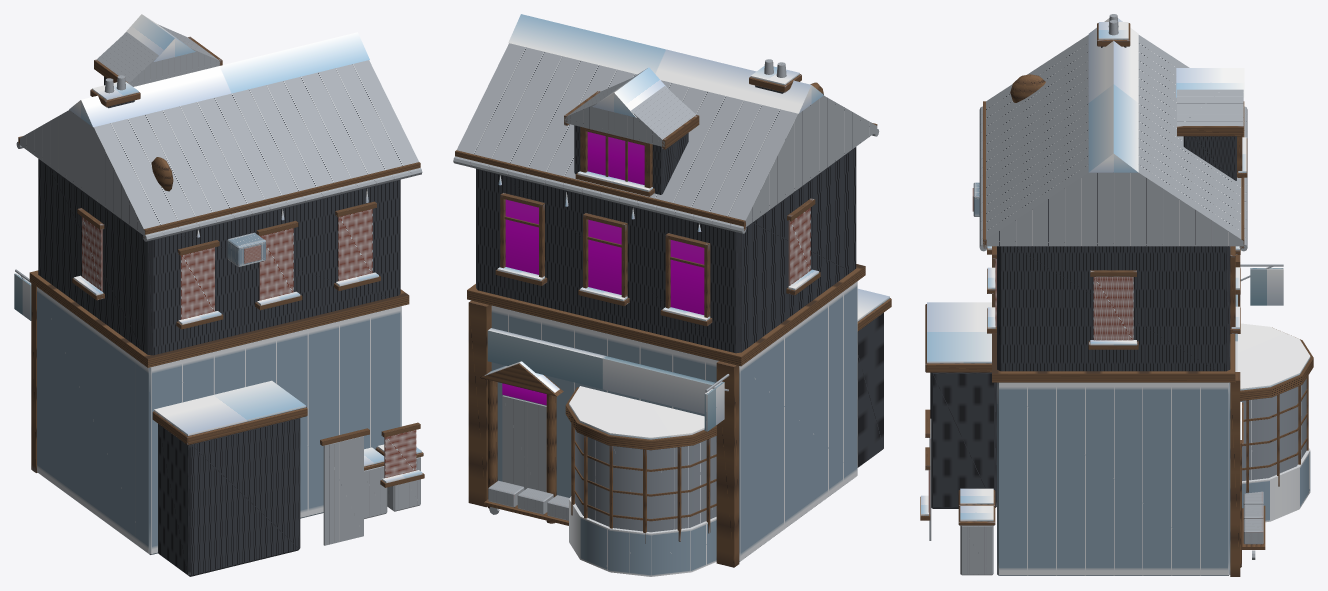
Rendered from ck_shop_bookshop.fbx.
3 renders of one model, left to right at view 1: azimuth 30°, elevation 25°; view 2: azimuth 150°, elevation 25°; view 3: azimuth 270°, elevation 25°, orthographic. The views are drawn at different scales.
Parts seen in each view (by area): view 1: ck_shop_bookshop; view 2: ck_shop_bookshop; view 3: ck_shop_bookshop.
Part boxes in pixels (bbox=[...]): ck_shop_bookshop: bbox=[14, 14, 424, 576]; ck_shop_bookshop: bbox=[453, 14, 891, 576]; ck_shop_bookshop: bbox=[920, 14, 1313, 576].
Bounding box in the file's own units: 1681 × 2500 × 2014.
